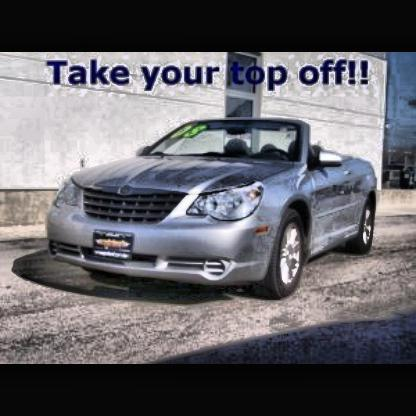Chrysler Sebring Convertible 2010: (48, 106, 383, 305)
